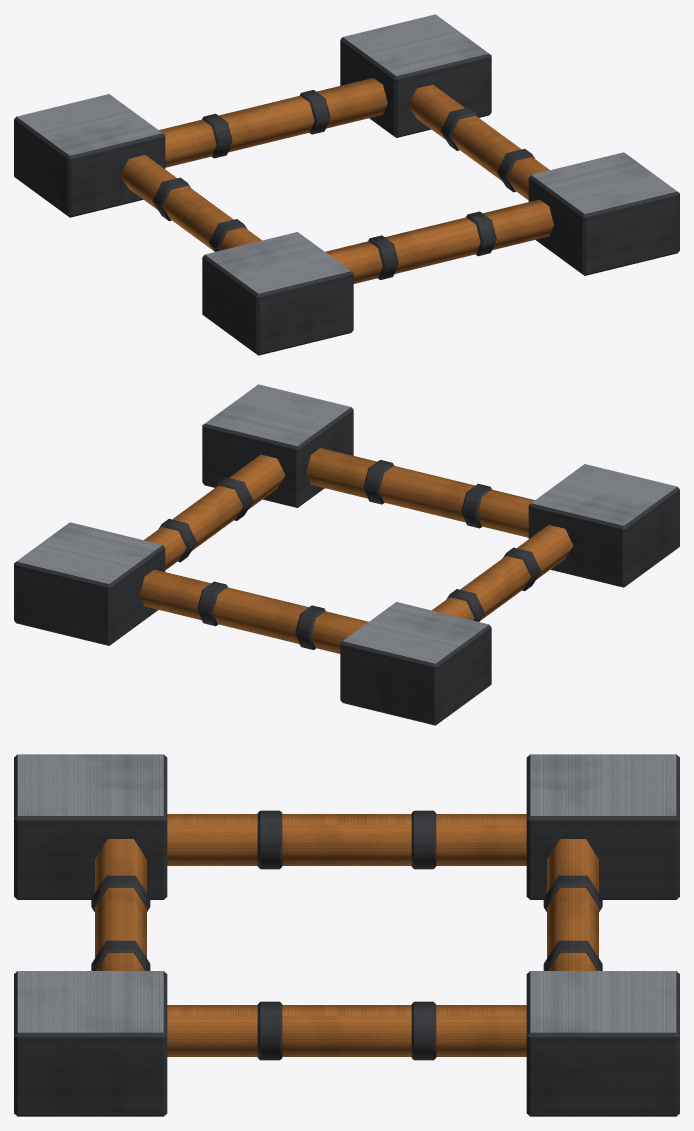
The model's file is R4C_ROD_FRAME_LOD1.glb.
3 views of the same model, one above another, from view 1: azimuth 30°, elevation 25°; view 2: azimuth 150°, elevation 25°; view 3: azimuth 270°, elevation 25° (orthographic). The views are drawn at different scales.
Parts seen in each view (by area): view 1: R4C_ROD_FRAME_LOD1; view 2: R4C_ROD_FRAME_LOD1; view 3: R4C_ROD_FRAME_LOD1.
Boxes of the visible parts, left/top/right/bottom form: R4C_ROD_FRAME_LOD1: left=14, top=14, right=679, bottom=355; R4C_ROD_FRAME_LOD1: left=14, top=384, right=679, bottom=725; R4C_ROD_FRAME_LOD1: left=14, top=754, right=679, bottom=1116.
Bounding box in the file's own units: 1.62 × 0.226 × 1.62.
Materials: 3 (3 with a texture image).
